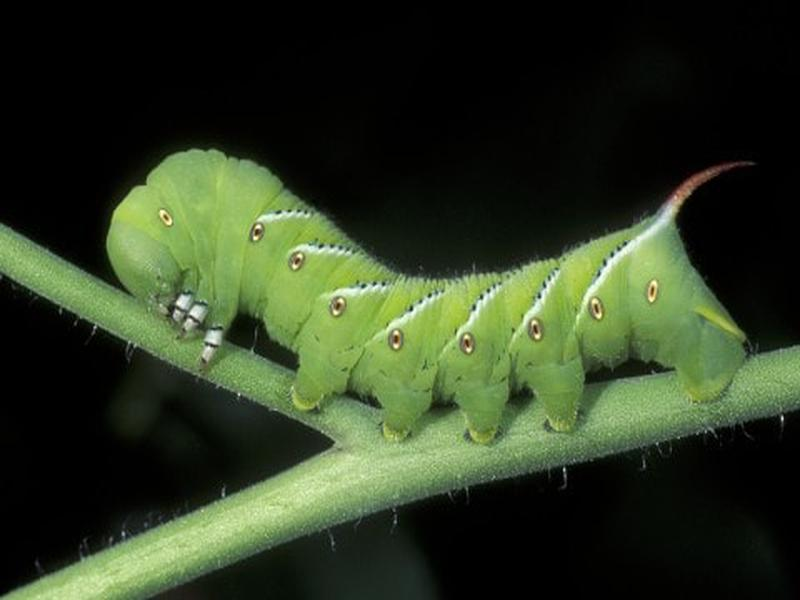Rice_horned_caterpillar: (87, 138, 775, 454)
